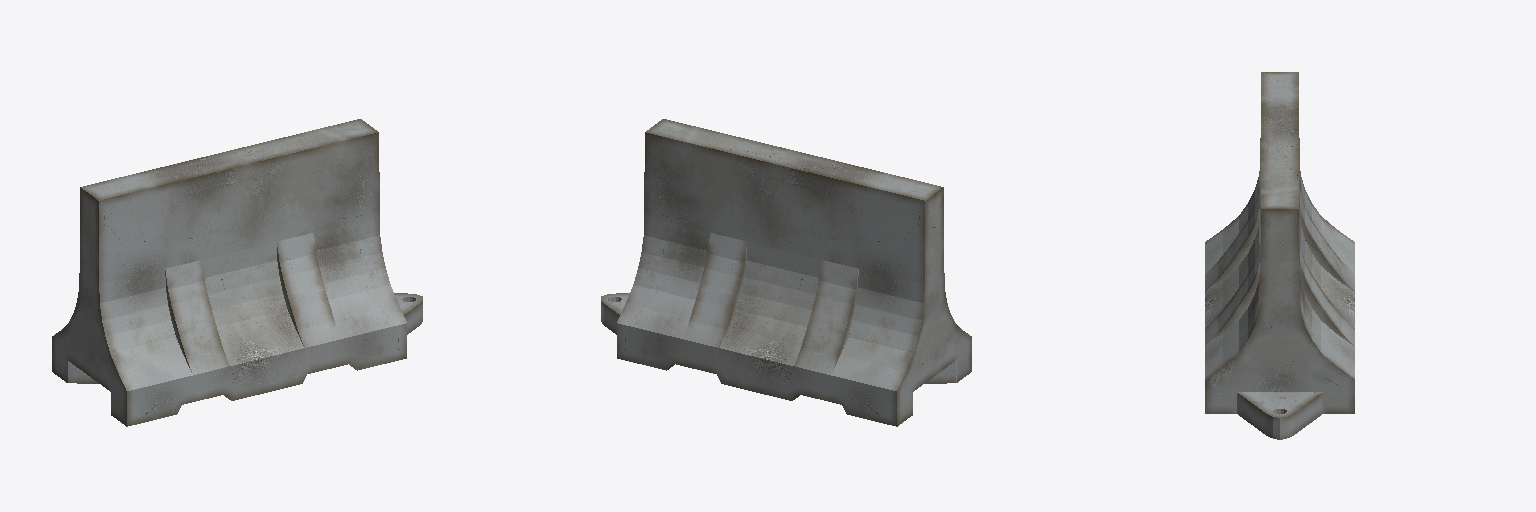
3 views of the same model, side by side, from view 1: azimuth 30°, elevation 25°; view 2: azimuth 150°, elevation 25°; view 3: azimuth 270°, elevation 25° (orthographic).
Visible parts, largest first — view 1: SM_Plastic_Barrier_04_Plastic_Barrier_04.003; view 2: SM_Plastic_Barrier_04_Plastic_Barrier_04.003; view 3: SM_Plastic_Barrier_04_Plastic_Barrier_04.003.
Part boxes in pixels (bbox=[...]): SM_Plastic_Barrier_04_Plastic_Barrier_04.003: bbox=[52, 119, 422, 426]; SM_Plastic_Barrier_04_Plastic_Barrier_04.003: bbox=[601, 119, 971, 426]; SM_Plastic_Barrier_04_Plastic_Barrier_04.003: bbox=[1205, 72, 1354, 439].
Bounding box in the file's own units: 1.19 × 0.7 × 0.4633.
1 materials, 1 textured.